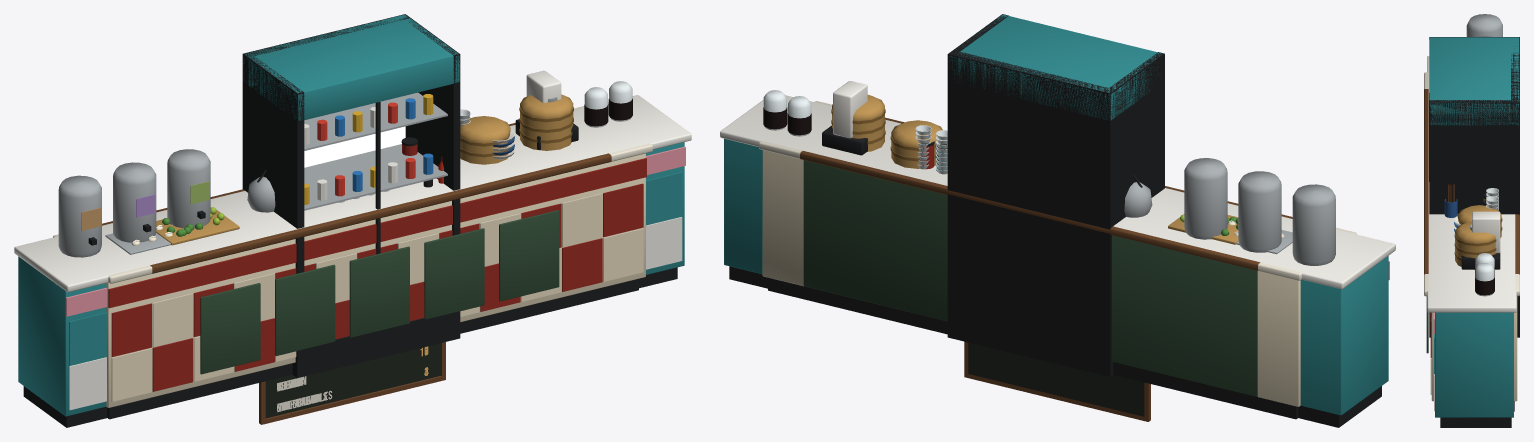
Rendered from shops.glb.
3 renders of one model, left to right at view 1: azimuth 30°, elevation 25°; view 2: azimuth 150°, elevation 25°; view 3: azimuth 270°, elevation 25°, orthographic. The views are drawn at different scales.
Visible parts, largest first — view 1: dumpling_counter, boba_bar, drink_fridge, pho_counter, menu_boba, tea_counter; view 2: drink_fridge, boba_bar, pho_counter, dumpling_counter, menu_boba, tea_counter; view 3: boba_bar, drink_fridge, dumpling_counter, pho_counter.
Part boxes in pixels (x1,y1,x2,y2): dumpling_counter: [53, 94, 652, 419]; boba_bar: [14, 70, 691, 427]; drink_fridge: [242, 14, 460, 377]; pho_counter: [102, 123, 611, 374]; menu_boba: [259, 342, 445, 424]; tea_counter: [247, 137, 417, 212]; drink_fridge: [947, 14, 1164, 376]; boba_bar: [720, 81, 1395, 427]; pho_counter: [800, 117, 1292, 396]; dumpling_counter: [759, 94, 1356, 419]; menu_boba: [964, 341, 1150, 421]; tea_counter: [922, 141, 1152, 217]; boba_bar: [1427, 14, 1516, 427]; drink_fridge: [1429, 37, 1519, 337]; dumpling_counter: [1424, 72, 1519, 411]; pho_counter: [1424, 89, 1519, 353].
Size of the model in its own units: 4.6 by 2.44 by 0.74.
